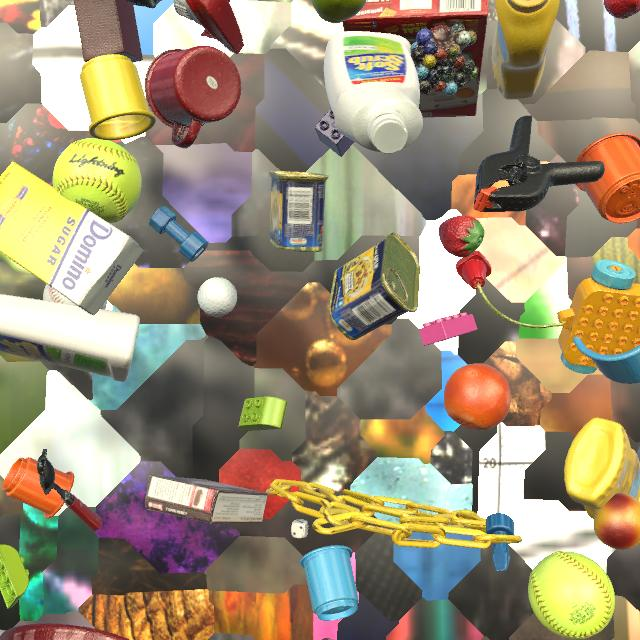ycb_003_cracker_box: (342, 0, 489, 118)
ycb_004_sugar_box: (0, 162, 143, 315)
ycb_006_mustard_bottle: (564, 418, 640, 519), (491, 0, 560, 100)
ycb_008_pudding_box: (145, 474, 268, 524)
ycb_010_potted_meat_can: (329, 232, 420, 340), (269, 171, 329, 252)
ycb_012_strawberry: (439, 215, 484, 258), (604, 0, 640, 19)
ycb_015_peach: (594, 493, 640, 550)
ycb_016_pear: (311, 0, 367, 23)
ycb_017_orange: (444, 363, 511, 431)
